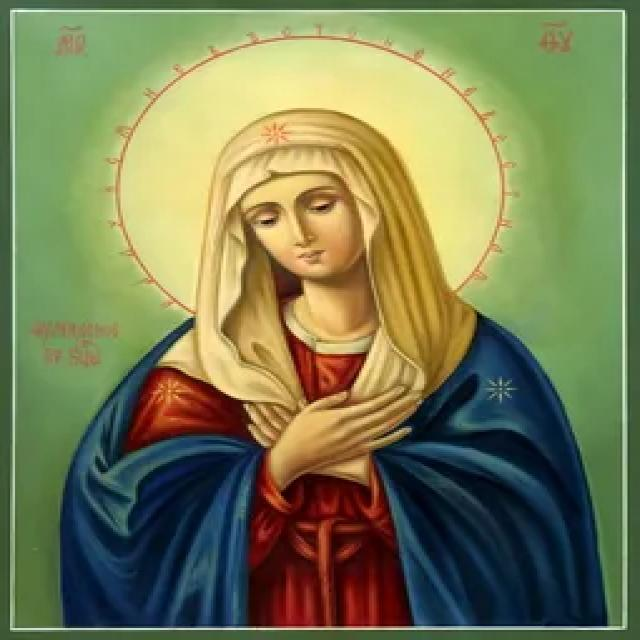mother of god: (59, 109, 630, 640)
